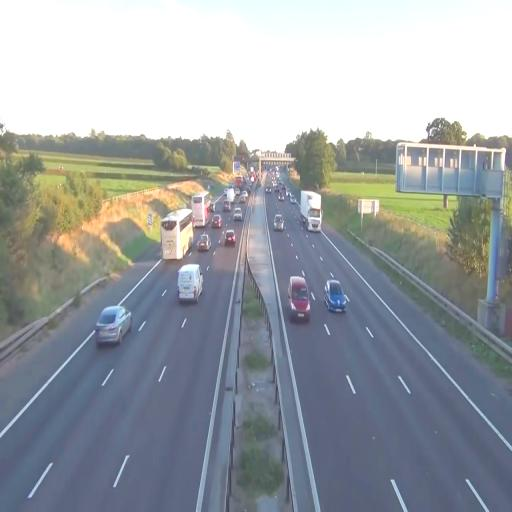vehicle: (160, 207, 195, 262), (161, 210, 193, 260), (96, 304, 132, 347), (95, 306, 132, 344), (177, 263, 204, 304), (288, 274, 311, 322), (288, 276, 310, 321), (178, 264, 203, 303), (300, 190, 322, 233), (191, 192, 214, 232), (324, 278, 349, 314), (300, 191, 321, 231), (324, 280, 346, 312), (192, 192, 210, 226), (196, 232, 210, 252), (231, 204, 244, 222), (273, 213, 285, 232), (198, 234, 211, 251), (224, 228, 236, 246), (224, 230, 236, 246), (274, 215, 283, 231), (212, 215, 222, 228), (227, 188, 235, 203), (235, 175, 243, 189), (234, 207, 242, 221), (223, 200, 231, 212), (239, 194, 247, 204), (210, 202, 215, 213), (278, 192, 284, 201), (290, 195, 296, 204), (250, 173, 256, 182), (280, 181, 286, 190), (223, 188, 229, 196), (234, 188, 240, 196), (246, 186, 251, 194), (241, 191, 247, 197), (286, 188, 290, 196), (266, 187, 271, 193), (275, 185, 279, 192)
